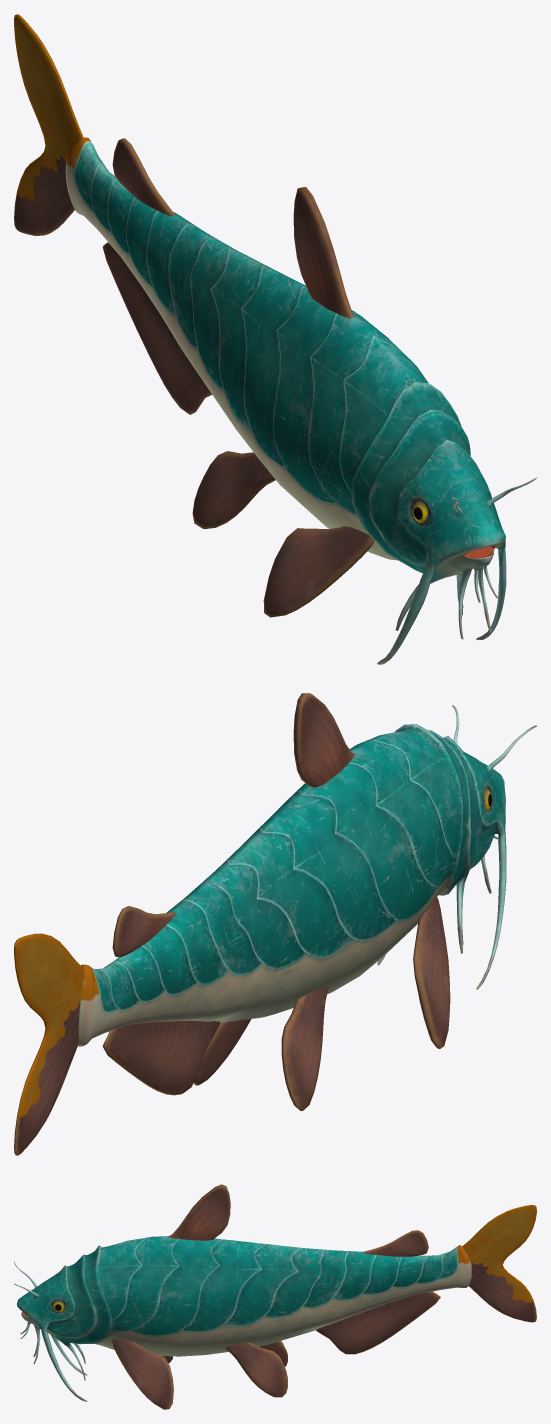
3 views of the same model, one above another, from view 1: azimuth 30°, elevation 25°; view 2: azimuth 150°, elevation 25°; view 3: azimuth 270°, elevation 25° (orthographic). The views are drawn at different scales.
Parts seen in each view (by area): view 1: SM_Fish_Catfish_Armoured_01_LOD0; view 2: SM_Fish_Catfish_Armoured_01_LOD0; view 3: SM_Fish_Catfish_Armoured_01_LOD0.
Boxes of the visible parts, x1,y1,x2,y2 form: SM_Fish_Catfish_Armoured_01_LOD0: [14, 14, 536, 664]; SM_Fish_Catfish_Armoured_01_LOD0: [14, 693, 536, 1155]; SM_Fish_Catfish_Armoured_01_LOD0: [14, 1184, 536, 1409].
Size of the model in its own units: 0.306 by 0.6212 by 1.44.
Materials: 1 (1 with a texture image).
